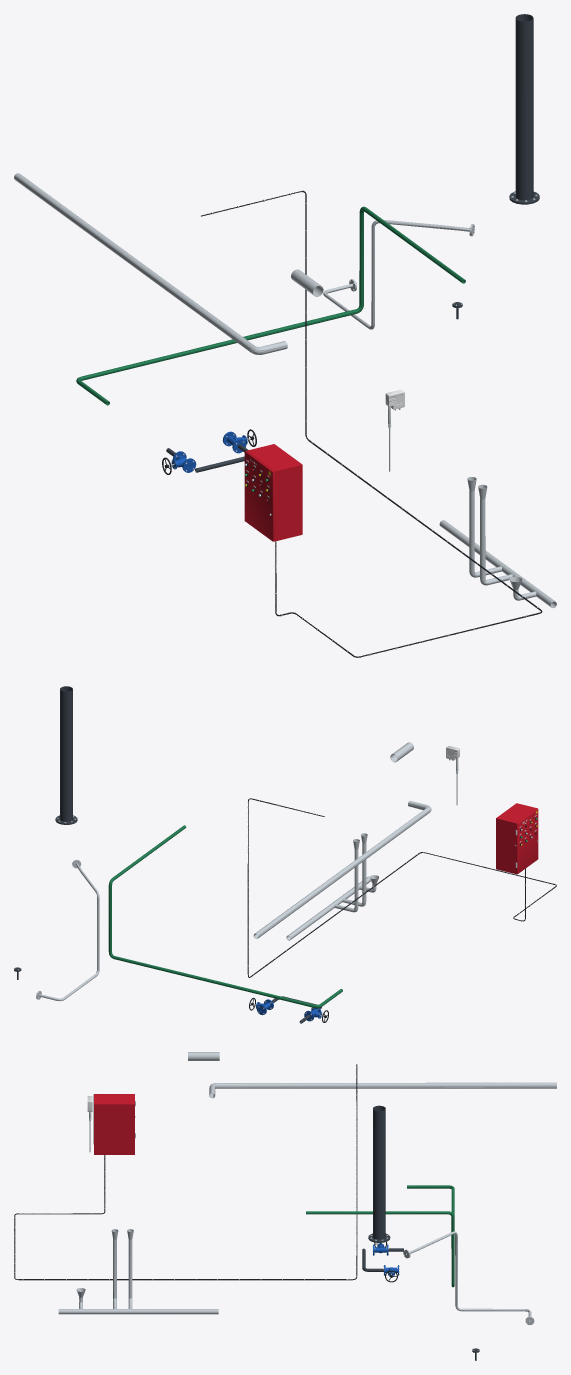
The model's file is s4000-1-Dr_dzSJS.glb.
The picture shows the model from 3 angles, top to bottom: view 1: azimuth 30°, elevation 25°; view 2: azimuth 150°, elevation 25°; view 3: azimuth 270°, elevation 25°; orthographic projection. The views are drawn at different scales.
Parts seen in each view (by area): view 1: bdv_vent / dark, control_cabinet / control_cabinet_0.npz, safety_vent_2 / steel, to_economizer / green, local_open_drains / steel, cabinet_door / cabinet_door_5.npz, mod_eco_drive_cable / black, trap_gap_to_bdv / steel; view 2: bdv_vent / dark, to_economizer / green, safety_vent_2 / steel, control_cabinet / control_cabinet_0.npz, local_open_drains / steel, cabinet_door / cabinet_door_5.npz, mod_eco_drive_cable / black, trap_gap_to_bdv / steel; view 3: control_cabinet / control_cabinet_0.npz, safety_vent_2 / steel, bdv_vent / dark, local_open_drains / steel, mod_eco_drive_cable / black, to_economizer / green, trap_gap_to_bdv / steel.
Part boxes in pixels (x1=…): bdv_vent / dark: x1=509, y1=14, x2=539, y2=204; control_cabinet / control_cabinet_0.npz: x1=247, y1=444, x2=302, y2=541; safety_vent_2 / steel: x1=14, y1=173, x2=287, y2=354; to_economizer / green: x1=76, y1=206, x2=465, y2=405; local_open_drains / steel: x1=439, y1=477, x2=556, y2=608; cabinet_door / cabinet_door_5.npz: x1=244, y1=451, x2=274, y2=541; mod_eco_drive_cable / black: x1=201, y1=190, x2=542, y2=657; trap_gap_to_bdv / steel: x1=323, y1=220, x2=474, y2=329; bdv_vent / dark: x1=55, y1=686, x2=77, y2=824; to_economizer / green: x1=108, y1=825, x2=342, y2=1008; safety_vent_2 / steel: x1=253, y1=801, x2=431, y2=938; control_cabinet / control_cabinet_0.npz: x1=496, y1=803, x2=536, y2=873; local_open_drains / steel: x1=286, y1=833, x2=378, y2=940; cabinet_door / cabinet_door_5.npz: x1=516, y1=808, x2=538, y2=874; mod_eco_drive_cable / black: x1=247, y1=798, x2=556, y2=977; trap_gap_to_bdv / steel: x1=36, y1=859, x2=99, y2=1001; control_cabinet / control_cabinet_0.npz: x1=94, y1=1094, x2=135, y2=1154; safety_vent_2 / steel: x1=209, y1=1082, x2=556, y2=1098; bdv_vent / dark: x1=368, y1=1105, x2=390, y2=1242; local_open_drains / steel: x1=58, y1=1229, x2=218, y2=1314; mod_eco_drive_cable / black: x1=14, y1=1064, x2=357, y2=1280; to_economizer / green: x1=306, y1=1185, x2=454, y2=1287; trap_gap_to_bdv / steel: x1=403, y1=1231, x2=534, y2=1325.
Size of the model in its own units: 5.01 by 3.91 by 7.03.
